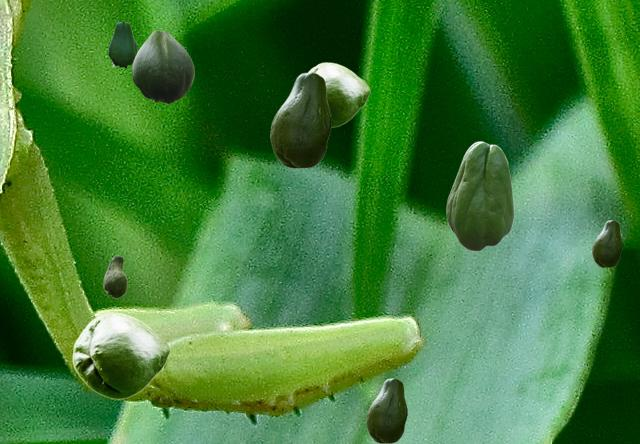sayote: (72, 312, 169, 398), (446, 141, 513, 250), (270, 72, 330, 167), (132, 30, 193, 103), (308, 62, 369, 126), (366, 378, 406, 442), (108, 22, 137, 68), (592, 220, 621, 266), (103, 255, 126, 297)
